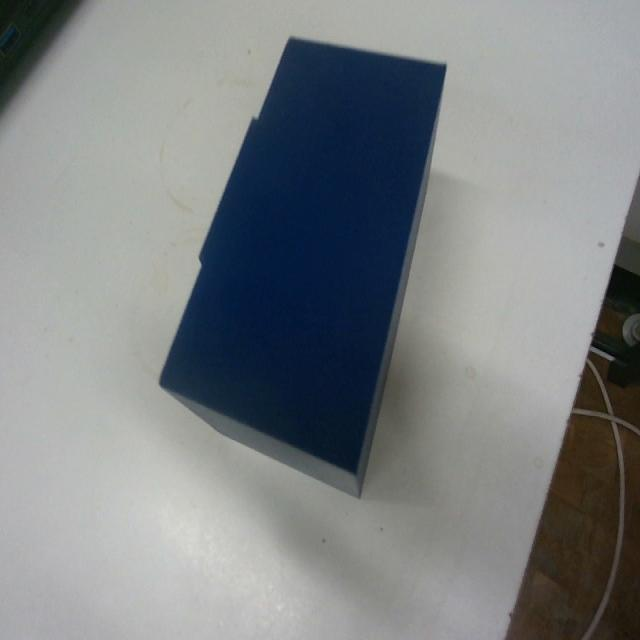Blue Cuboid: (157, 33, 447, 499)
